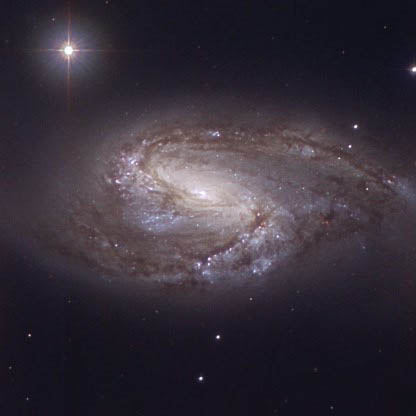Messier 66: (44, 29, 403, 301)
